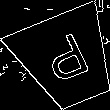P_SE: (38, 29, 96, 90)
